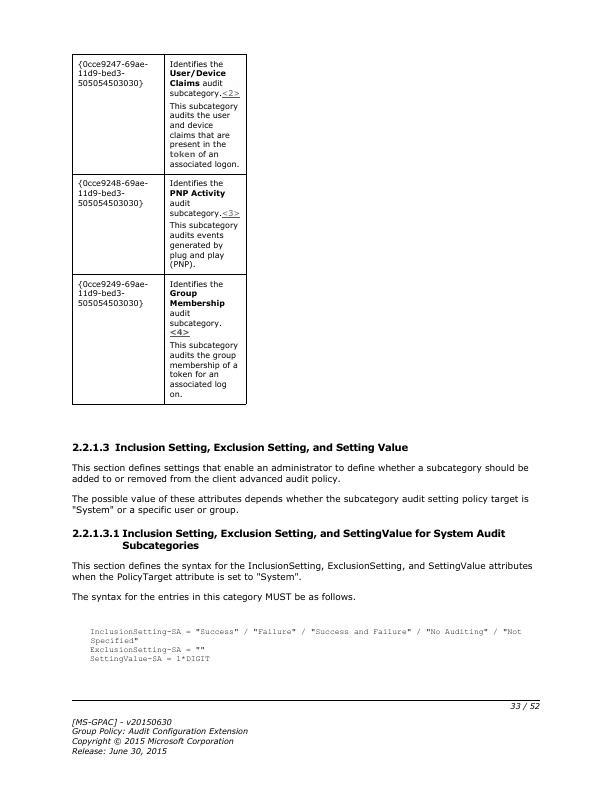table: (70, 52, 249, 408)
text: (87, 623, 526, 665), (68, 558, 539, 584), (69, 491, 530, 516), (68, 526, 510, 551), (70, 460, 530, 484), (68, 712, 252, 757), (70, 588, 358, 607), (70, 440, 410, 455)
